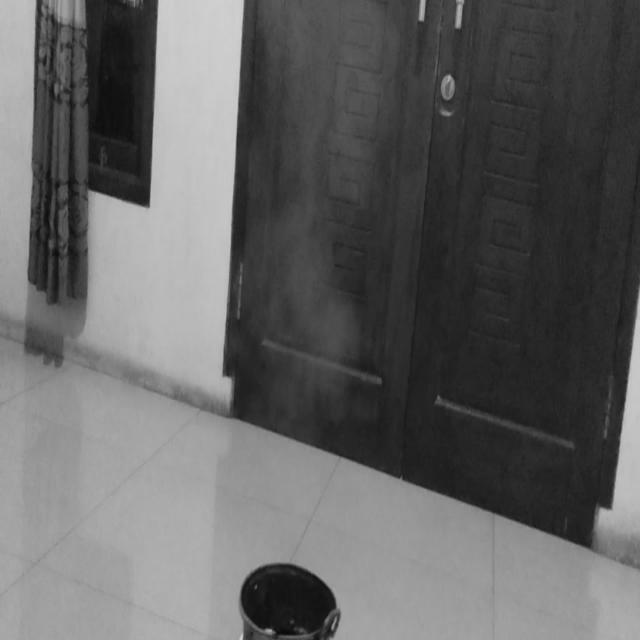fire: (258, 0, 380, 225), (236, 233, 370, 437)
